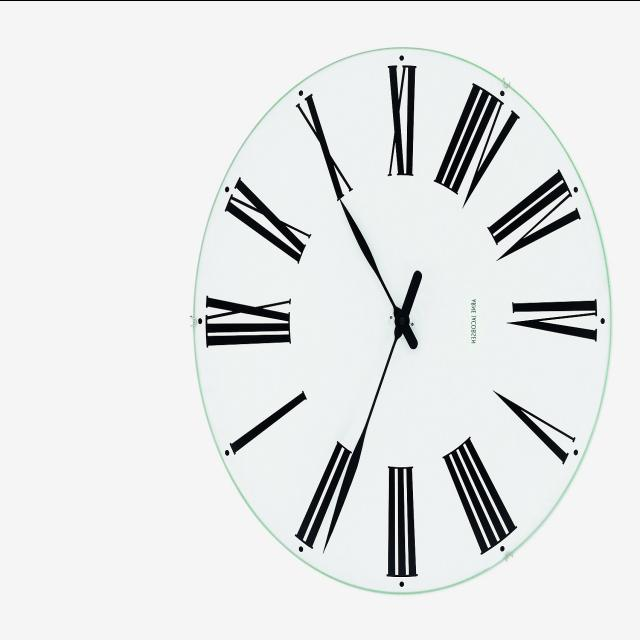clock: (147, 15, 610, 640)
